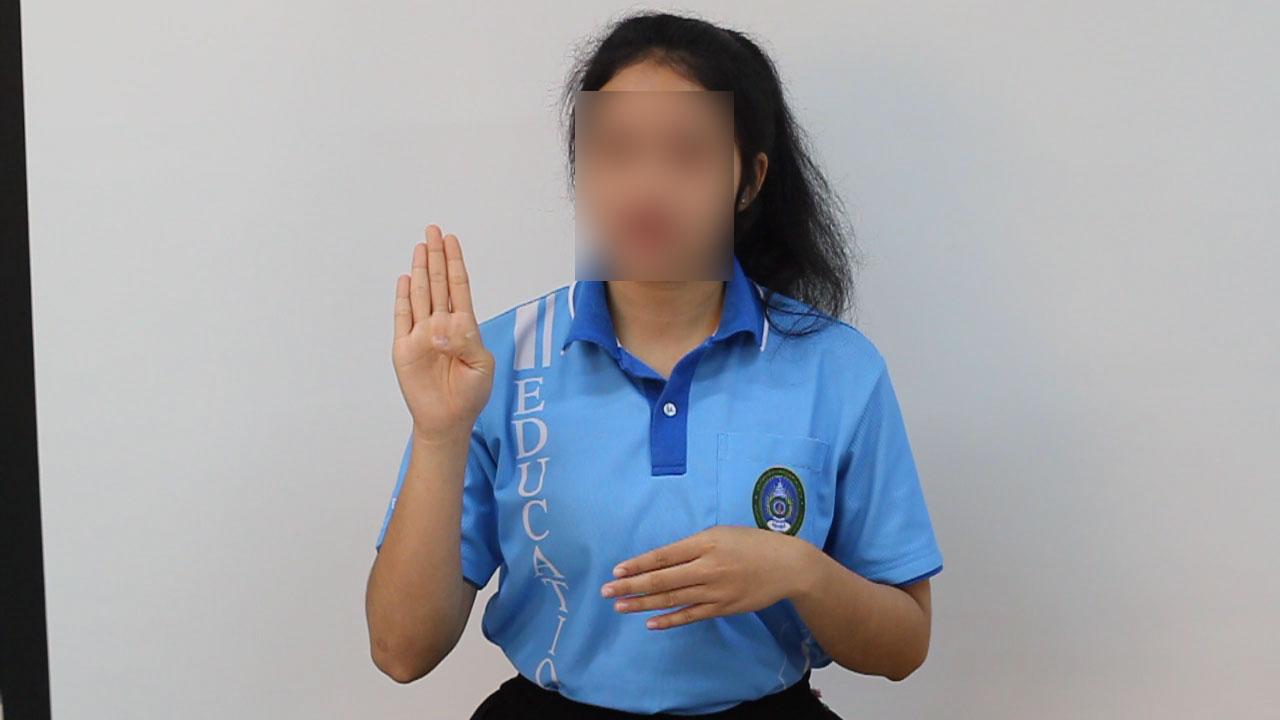bor: (372, 205, 518, 469)
